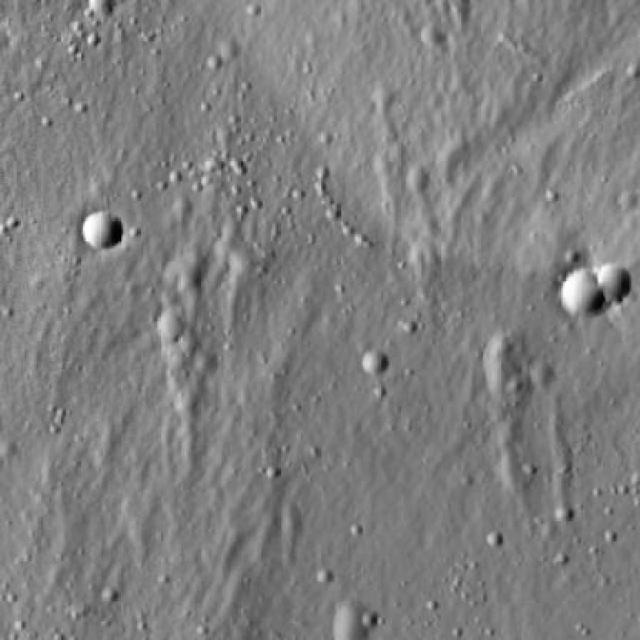crater: (554, 272, 606, 321), (585, 265, 626, 307), (78, 211, 118, 251), (169, 252, 203, 285), (152, 313, 179, 341), (400, 170, 426, 195), (525, 366, 549, 389), (417, 27, 440, 50), (358, 358, 382, 380), (214, 39, 234, 59), (84, 0, 109, 15), (176, 333, 195, 352), (358, 610, 376, 628), (98, 584, 117, 601), (556, 502, 573, 518), (317, 565, 332, 580)
